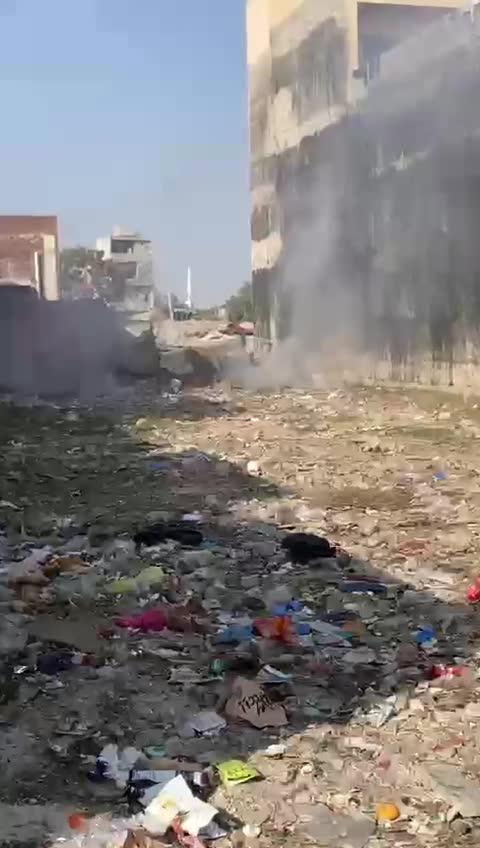garbage: (0, 402, 480, 848)
